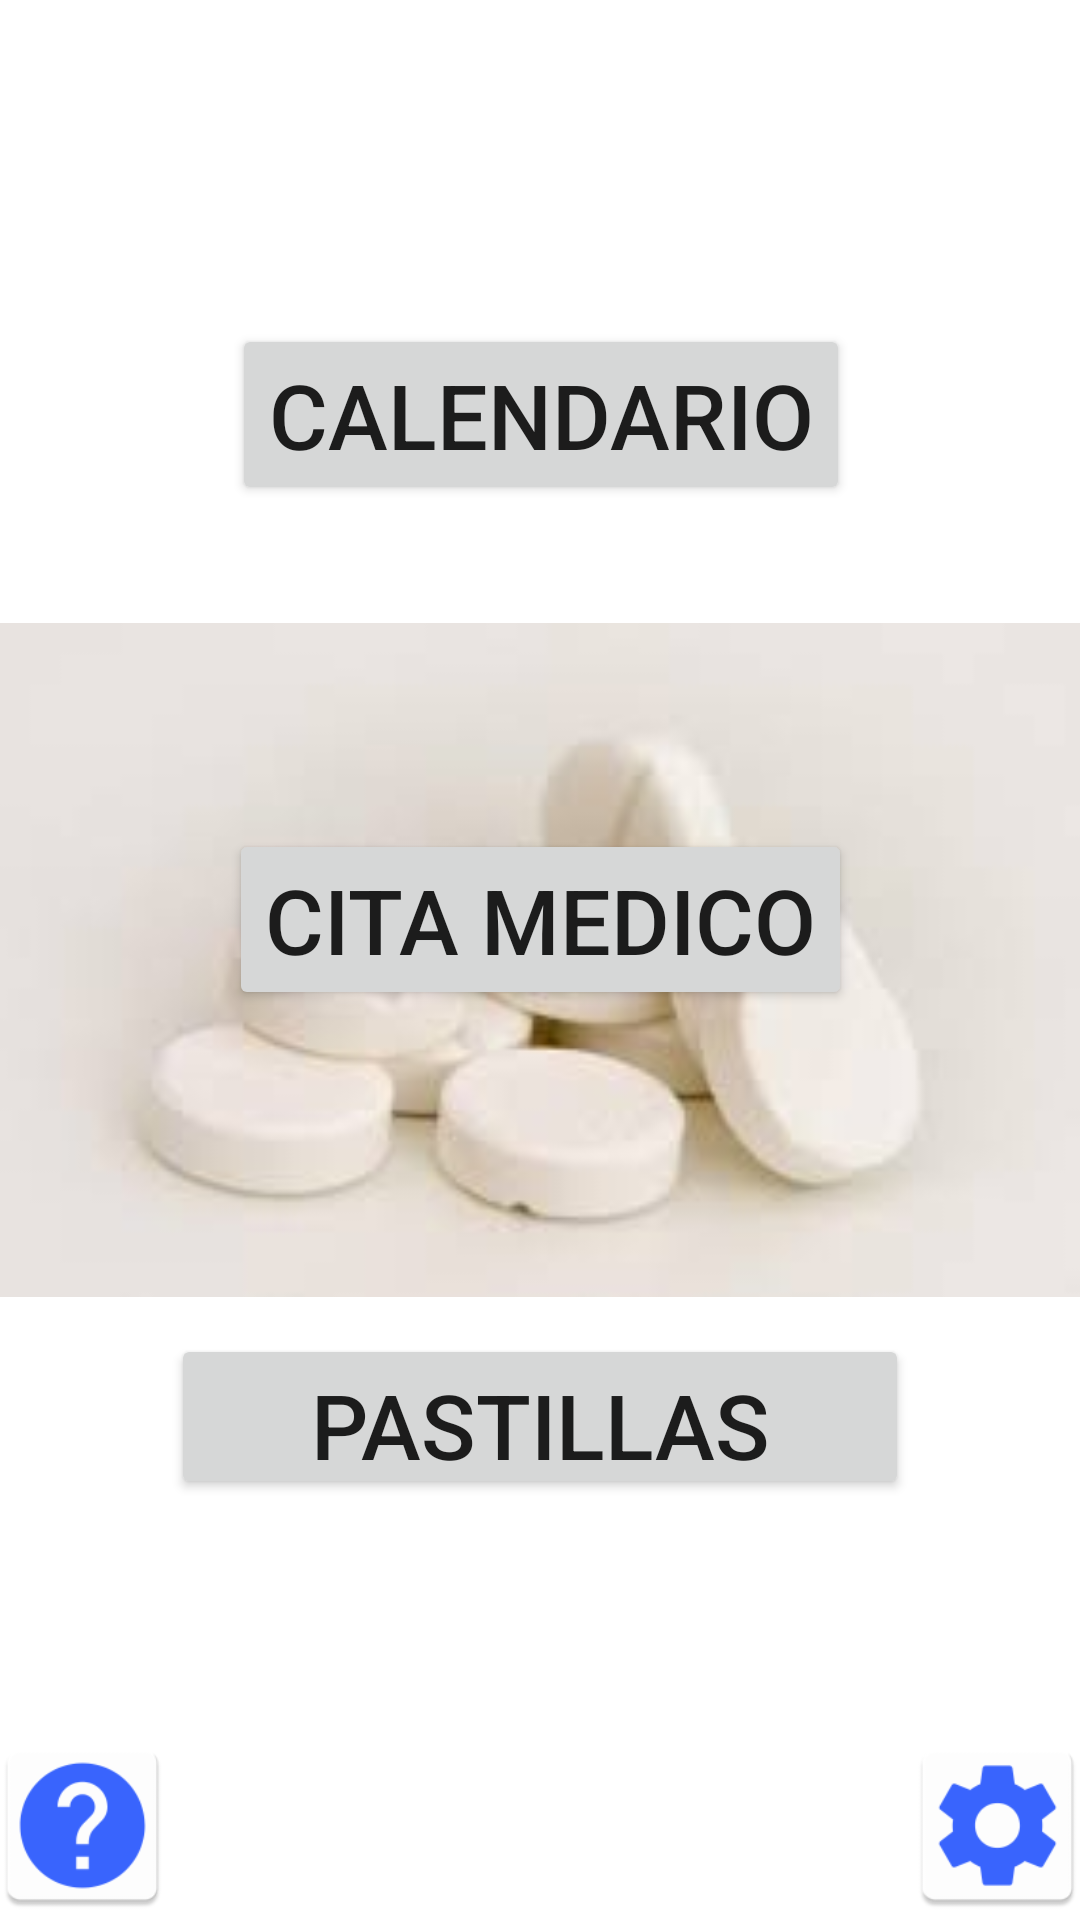

Locate icon controls on the screen. Image size 1080px x 1920px, boxes as (left=x1, top=y1, right=x2, bottom=y2).
help: (left=8, top=1759, right=158, bottom=1905)
setting: (left=923, top=1759, right=1073, bottom=1905)
